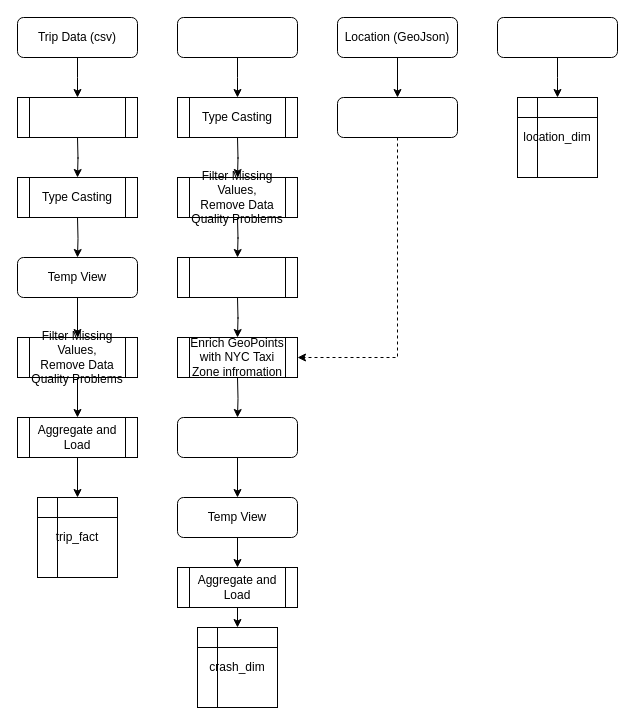
This 635x725 diagram has some shape labels left out. Here are the shapes that lost their labels. From the top down, the centre of each, then its label:
At point (237, 37): "Raw Crash Data (csv)".
At point (557, 37): "Location Lookup (csv)".
At point (77, 117): "Filter Specific S3 Date partition".
At point (397, 117): "shapely UDF - return StructField()".
At point (237, 277): "Data Transfromation - Complex Types".
At point (237, 437): "Write to Parquet format ( for pefromance)".
